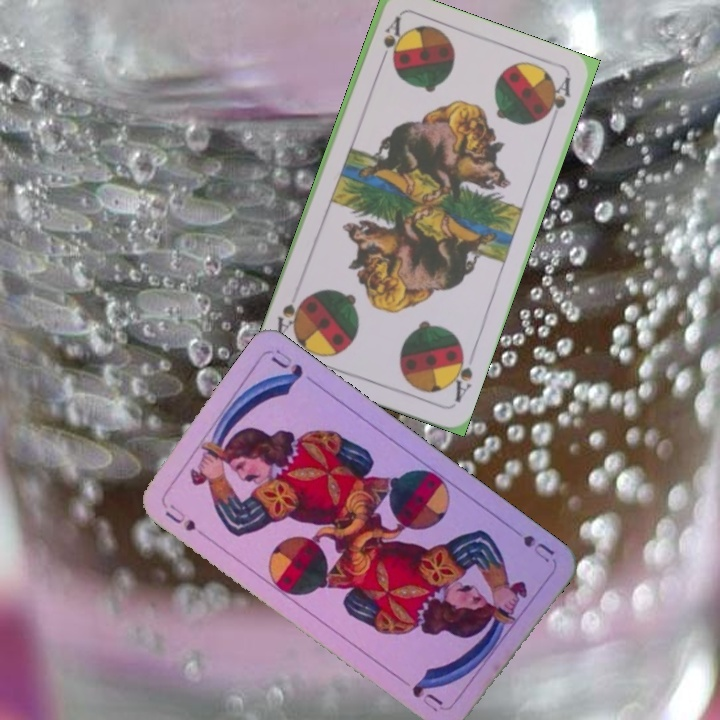SA: (445, 345, 476, 405), (374, 13, 403, 70)
SU: (161, 500, 210, 541), (519, 531, 557, 565)
